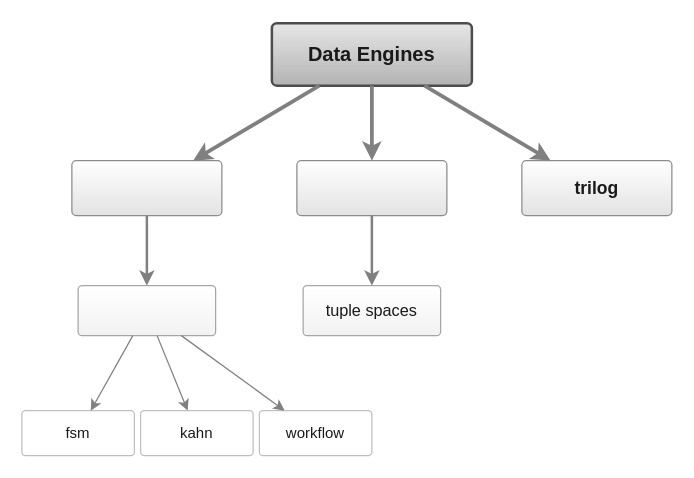
This 694x478 diagram has some shape labels left out. Each missing label, with the centre of its shape:
"jq" belongs at point 146,187.
"petri" belongs at point 146,310.
"sqlite" belongs at point 371,187.
